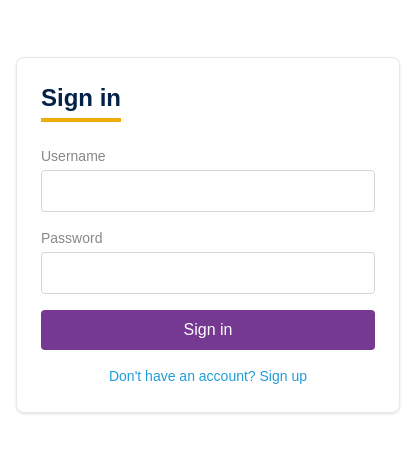
Test: LoginForm › switches to sign up mode and shows an email field
The image size is (417, 472).
Expected: the field labelled "Email" is not shown
Step 1. Click the button "Don't have an account? Sign up" → click(208, 376), box x1=41 y1=366 x2=375 y2=386
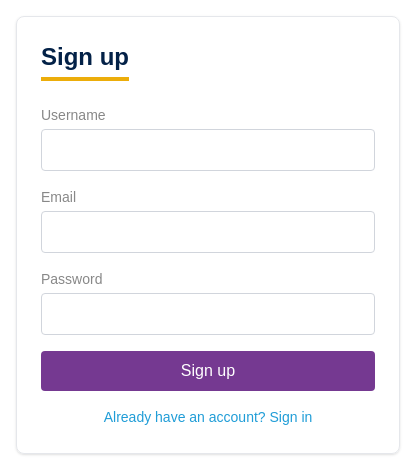
Expected: the heading "Sign up" is shown, x1=41 y1=41 x2=129 y2=81
Expected: the field labelled "Email" is shown, x1=41 y1=211 x2=375 y2=253
